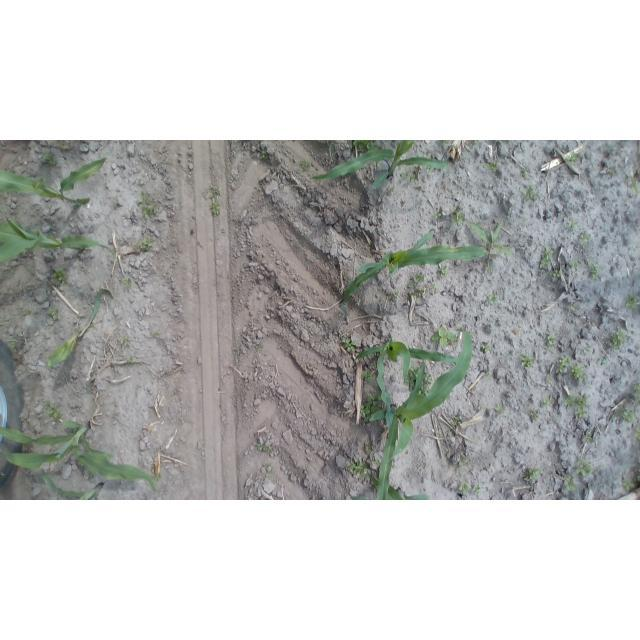Maize: (369, 331, 480, 500), (338, 222, 504, 318), (0, 417, 158, 496), (354, 340, 469, 434), (309, 141, 450, 192), (0, 209, 116, 265), (2, 151, 109, 209), (45, 288, 108, 372), (348, 472, 432, 500), (43, 476, 102, 500)
Weeds: (467, 220, 514, 275), (360, 393, 384, 422), (564, 392, 589, 418), (138, 191, 159, 220), (430, 327, 459, 348), (609, 328, 627, 351), (576, 457, 595, 478), (348, 458, 367, 479), (405, 367, 420, 392), (408, 273, 425, 295), (539, 245, 554, 269), (49, 267, 69, 285), (520, 185, 538, 204), (43, 403, 61, 421), (451, 205, 466, 226), (351, 141, 377, 153), (570, 363, 587, 381), (138, 236, 155, 253), (617, 406, 635, 422), (341, 335, 357, 353), (419, 375, 432, 397), (555, 355, 569, 375), (409, 282, 425, 299), (630, 169, 640, 195), (524, 466, 540, 482), (564, 475, 579, 492), (42, 151, 58, 166), (518, 353, 534, 368), (400, 169, 416, 184), (209, 196, 221, 216), (588, 263, 601, 280), (457, 482, 475, 494), (47, 309, 61, 324), (625, 292, 638, 308), (263, 463, 275, 478), (255, 442, 273, 452), (546, 331, 556, 347), (487, 293, 499, 306), (623, 479, 636, 491), (439, 263, 450, 277), (369, 455, 380, 469), (632, 382, 640, 400), (566, 152, 578, 164), (529, 409, 541, 421), (542, 396, 554, 408), (300, 159, 311, 172), (361, 369, 371, 383), (486, 161, 498, 172), (568, 218, 579, 230), (210, 184, 221, 196), (493, 404, 505, 415), (580, 232, 591, 243), (569, 260, 580, 271), (433, 208, 443, 220), (468, 485, 481, 494), (121, 277, 131, 288), (457, 457, 467, 468), (553, 268, 563, 279), (9, 341, 20, 351), (452, 416, 462, 427), (584, 433, 595, 443), (120, 335, 130, 346), (480, 343, 491, 353), (388, 291, 399, 301), (430, 283, 439, 294), (544, 374, 553, 385), (633, 426, 640, 440), (20, 309, 32, 317), (436, 140, 452, 146), (598, 357, 608, 366), (152, 471, 161, 481), (151, 330, 162, 338), (569, 301, 578, 310), (582, 346, 591, 355), (254, 342, 264, 350), (234, 346, 242, 356), (477, 404, 487, 412), (484, 367, 491, 378), (386, 186, 394, 195), (261, 151, 270, 159), (608, 168, 617, 176), (522, 166, 529, 176), (522, 215, 529, 225), (365, 445, 372, 455), (127, 357, 135, 365), (427, 166, 434, 174), (496, 140, 504, 145), (637, 470, 640, 483), (343, 273, 349, 279), (474, 141, 479, 144)
